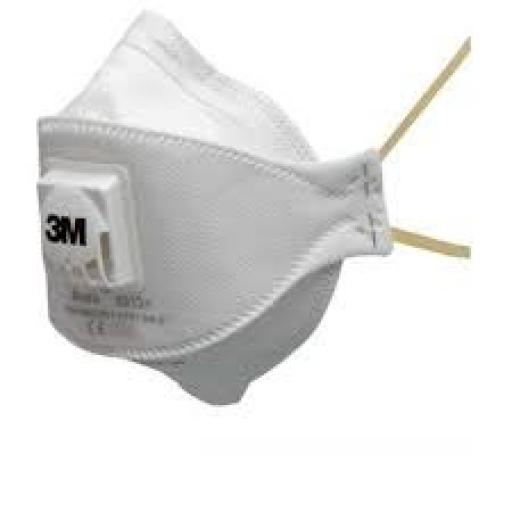mask: (19, 25, 349, 404)
